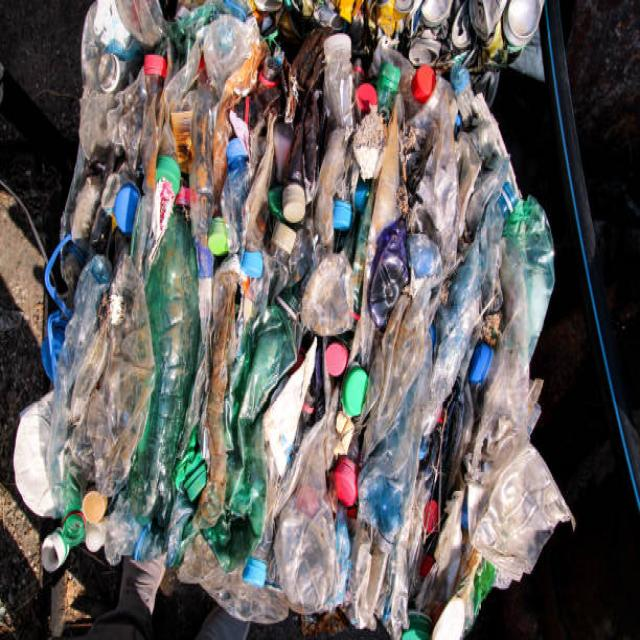cardboard: (84, 60, 520, 604)
